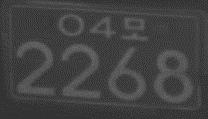0: (57, 12, 85, 37)
2: (60, 41, 103, 99), (15, 39, 57, 97)
4: (86, 14, 116, 39)
6: (107, 44, 147, 101)
8: (152, 47, 193, 104)
모: (119, 16, 148, 41)
